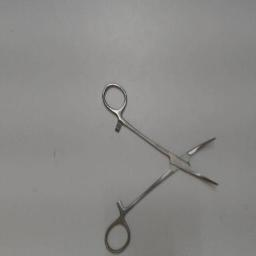Crile Artery Forceps: (100, 80, 220, 254)
